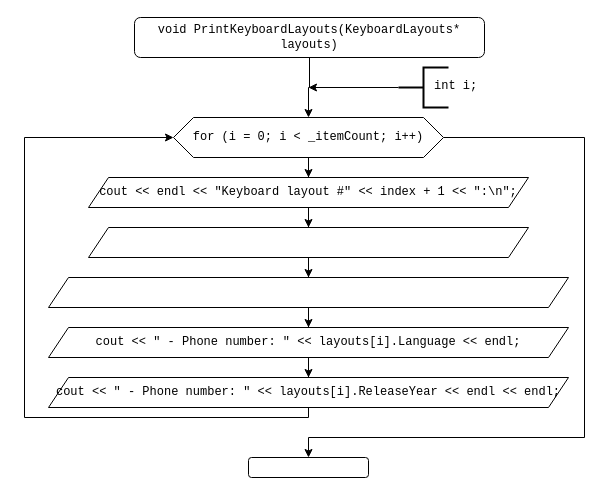
The diagram is 610 pixels wide and 495 high, and some of its shapes have lost their labels. Each missing label, with the centre of its shape:
cout << " - Full name: " << layouts[i].Name << endl;: (308,242)
cout << " - Passport number: " << layouts[i].Author << endl;: (308,292)
